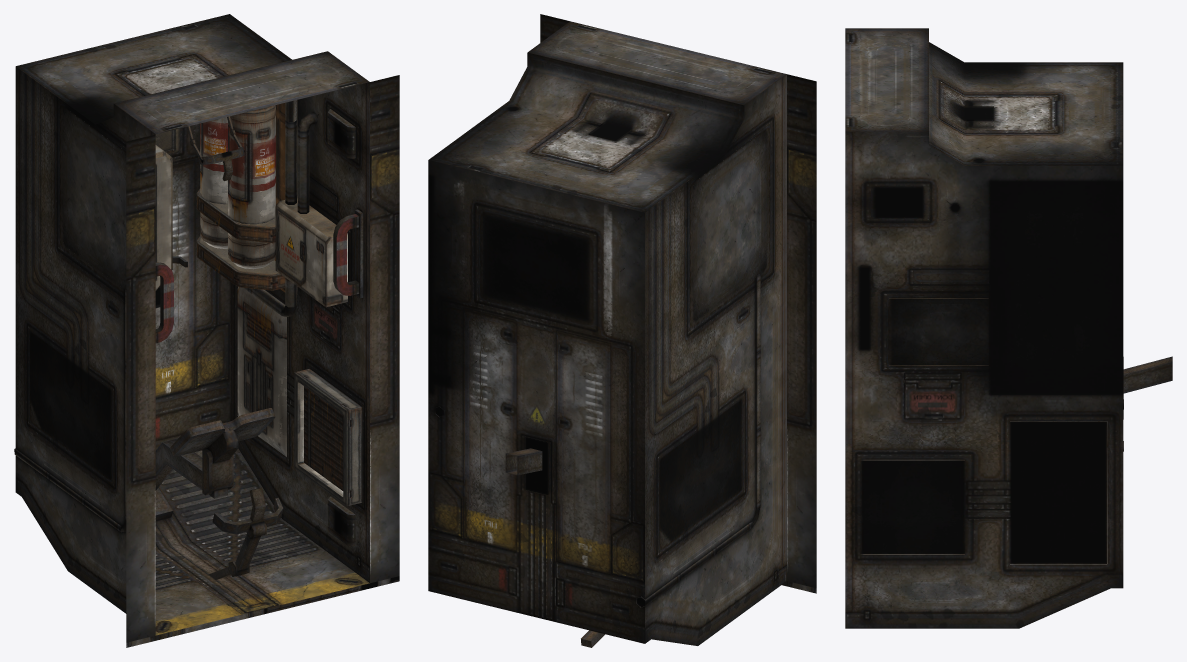
File: 03_02_diving_suit_locker_retracted.dae
3 views of the same model, side by side, from view 1: azimuth 30°, elevation 25°; view 2: azimuth 150°, elevation 25°; view 3: azimuth 270°, elevation 25° (orthographic). The views are drawn at different scales.
Parts seen in each view (by area): view 1: main_structure, utility_pieces; view 2: main_structure; view 3: main_structure, utility_pieces.
Part boxes in pixels (x1,y1,x2,y2): main_structure: [14, 14, 399, 647]; utility_pieces: [155, 100, 362, 506]; main_structure: [428, 14, 816, 647]; main_structure: [845, 28, 1172, 628]; utility_pieces: [860, 298, 1107, 564].
Size of the model in its own units: 1.64 by 3.01 by 1.71.
